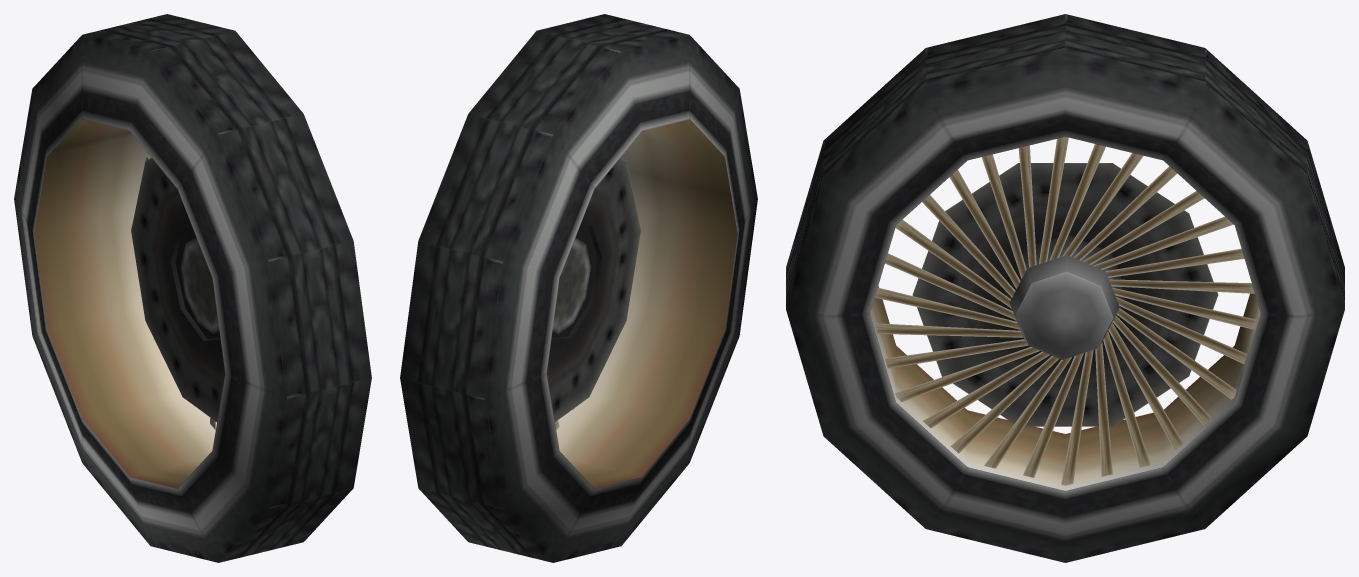
File: wheel_lr3.glb
3 renders of one model, left to right at view 1: azimuth 30°, elevation 25°; view 2: azimuth 150°, elevation 25°; view 3: azimuth 270°, elevation 25°, orthographic. The views are drawn at different scales.
Visible parts, largest first — view 1: wheel_lr3; view 2: wheel_lr3; view 3: wheel_lr3.
Boxes of the visible parts, x1,y1,x2,y2 form: wheel_lr3: (14, 14, 371, 562); wheel_lr3: (400, 14, 757, 562); wheel_lr3: (786, 14, 1344, 562).
Bounding box in the file's own units: 0.2887 × 0.9843 × 0.9843.
2 materials, 2 textured.
